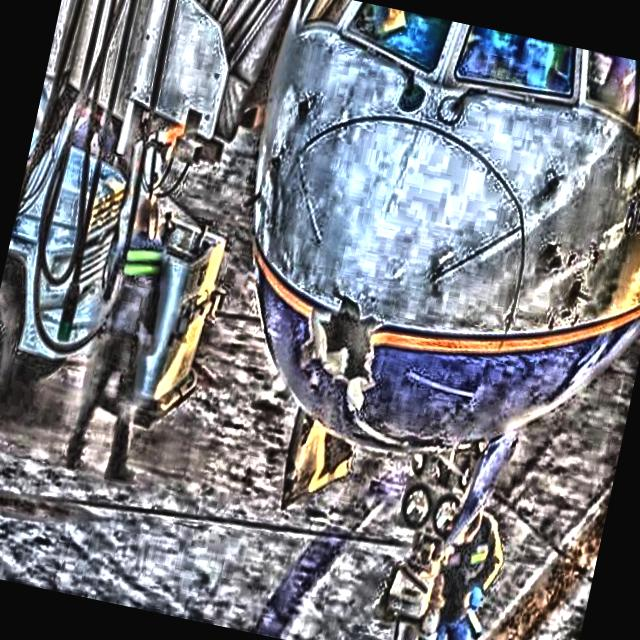crack: (290, 281, 396, 408)
